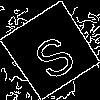S: (25, 25, 79, 83)
